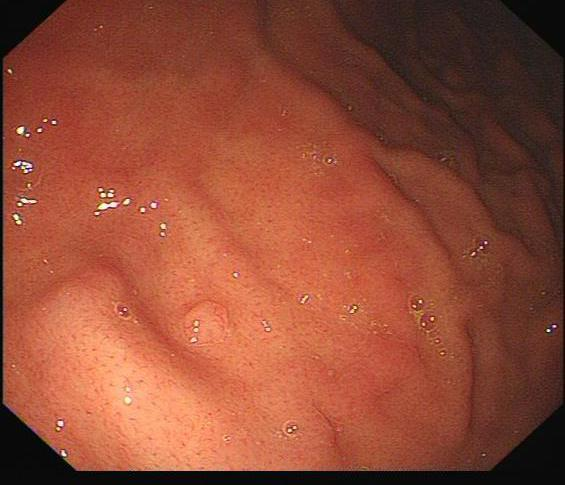Polyp: (181, 299, 232, 351)
